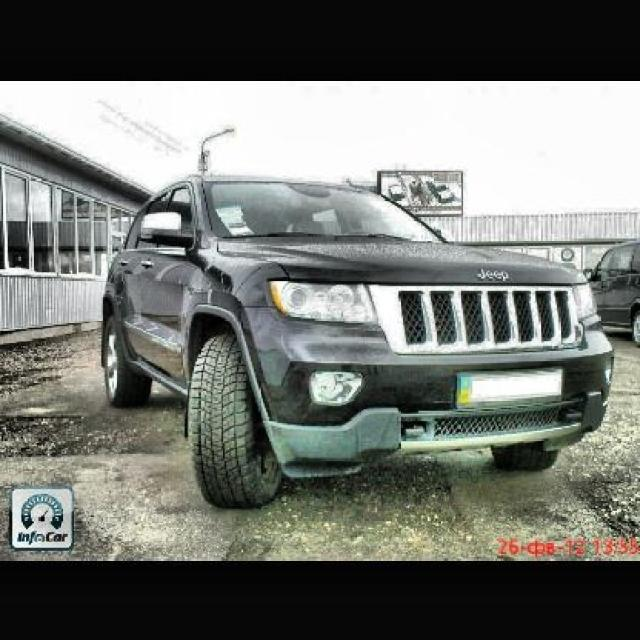black: (103, 180, 612, 500)
